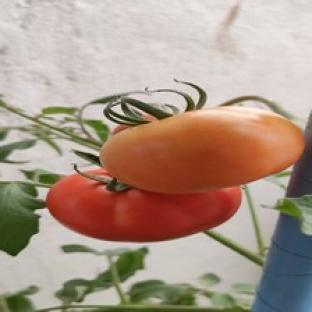Tomato: (101, 106, 303, 193), (46, 175, 242, 242)
